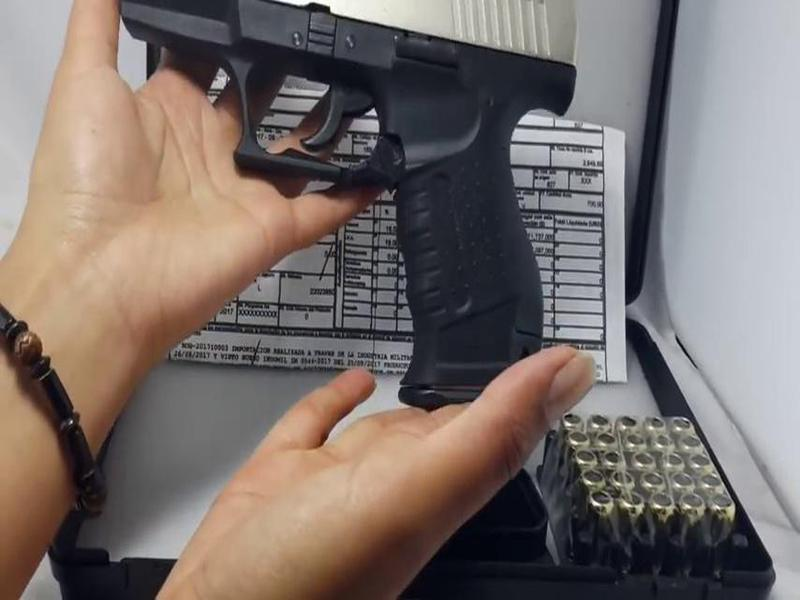Pistola: (125, 1, 577, 424)
